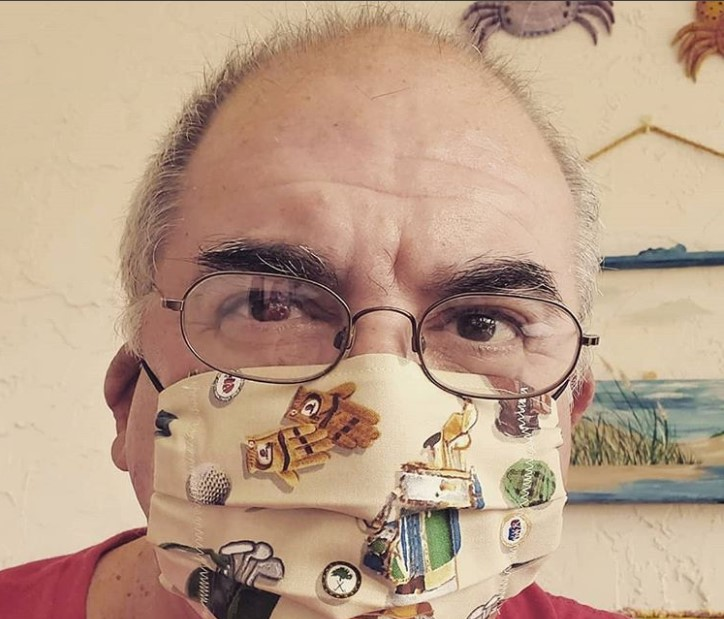face_with_mask: (103, 15, 599, 618)
